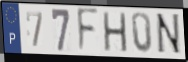0: (130, 11, 154, 56)
7: (50, 7, 71, 53), (25, 10, 44, 48)
F: (76, 7, 100, 56)
H: (102, 11, 129, 54)
N: (155, 12, 183, 56)
